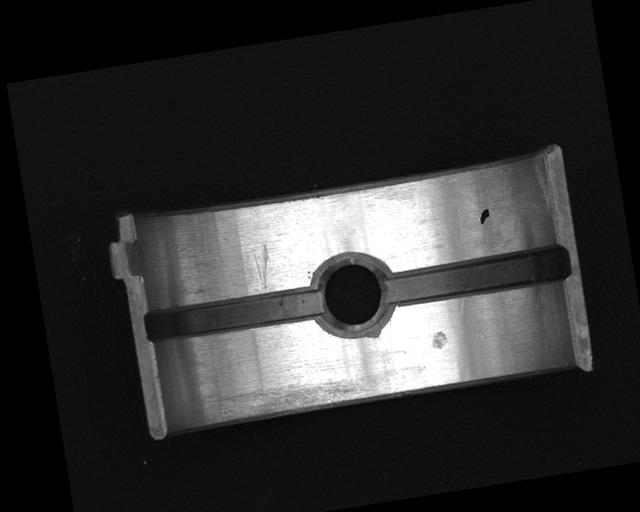blot: (477, 208, 491, 225)
bruise: (429, 328, 449, 350)
gap: (379, 243, 572, 310), (142, 284, 322, 346)
hole: (306, 247, 396, 343)
nick: (249, 240, 276, 295)
scratch: (207, 370, 379, 426)
